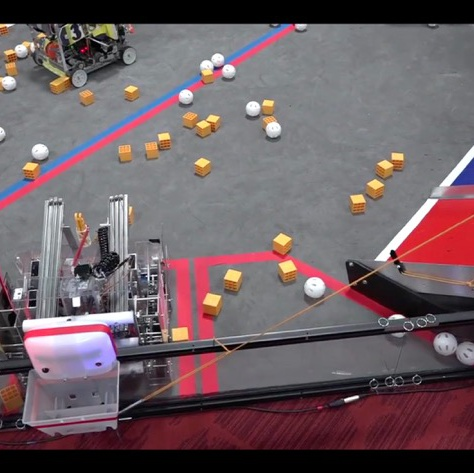robot: (1, 190, 173, 401), (24, 23, 140, 89)
